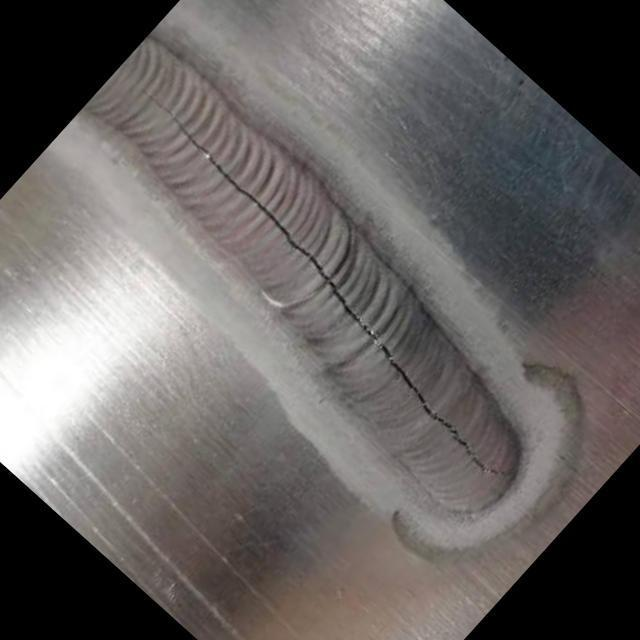defect: (137, 87, 515, 480)
